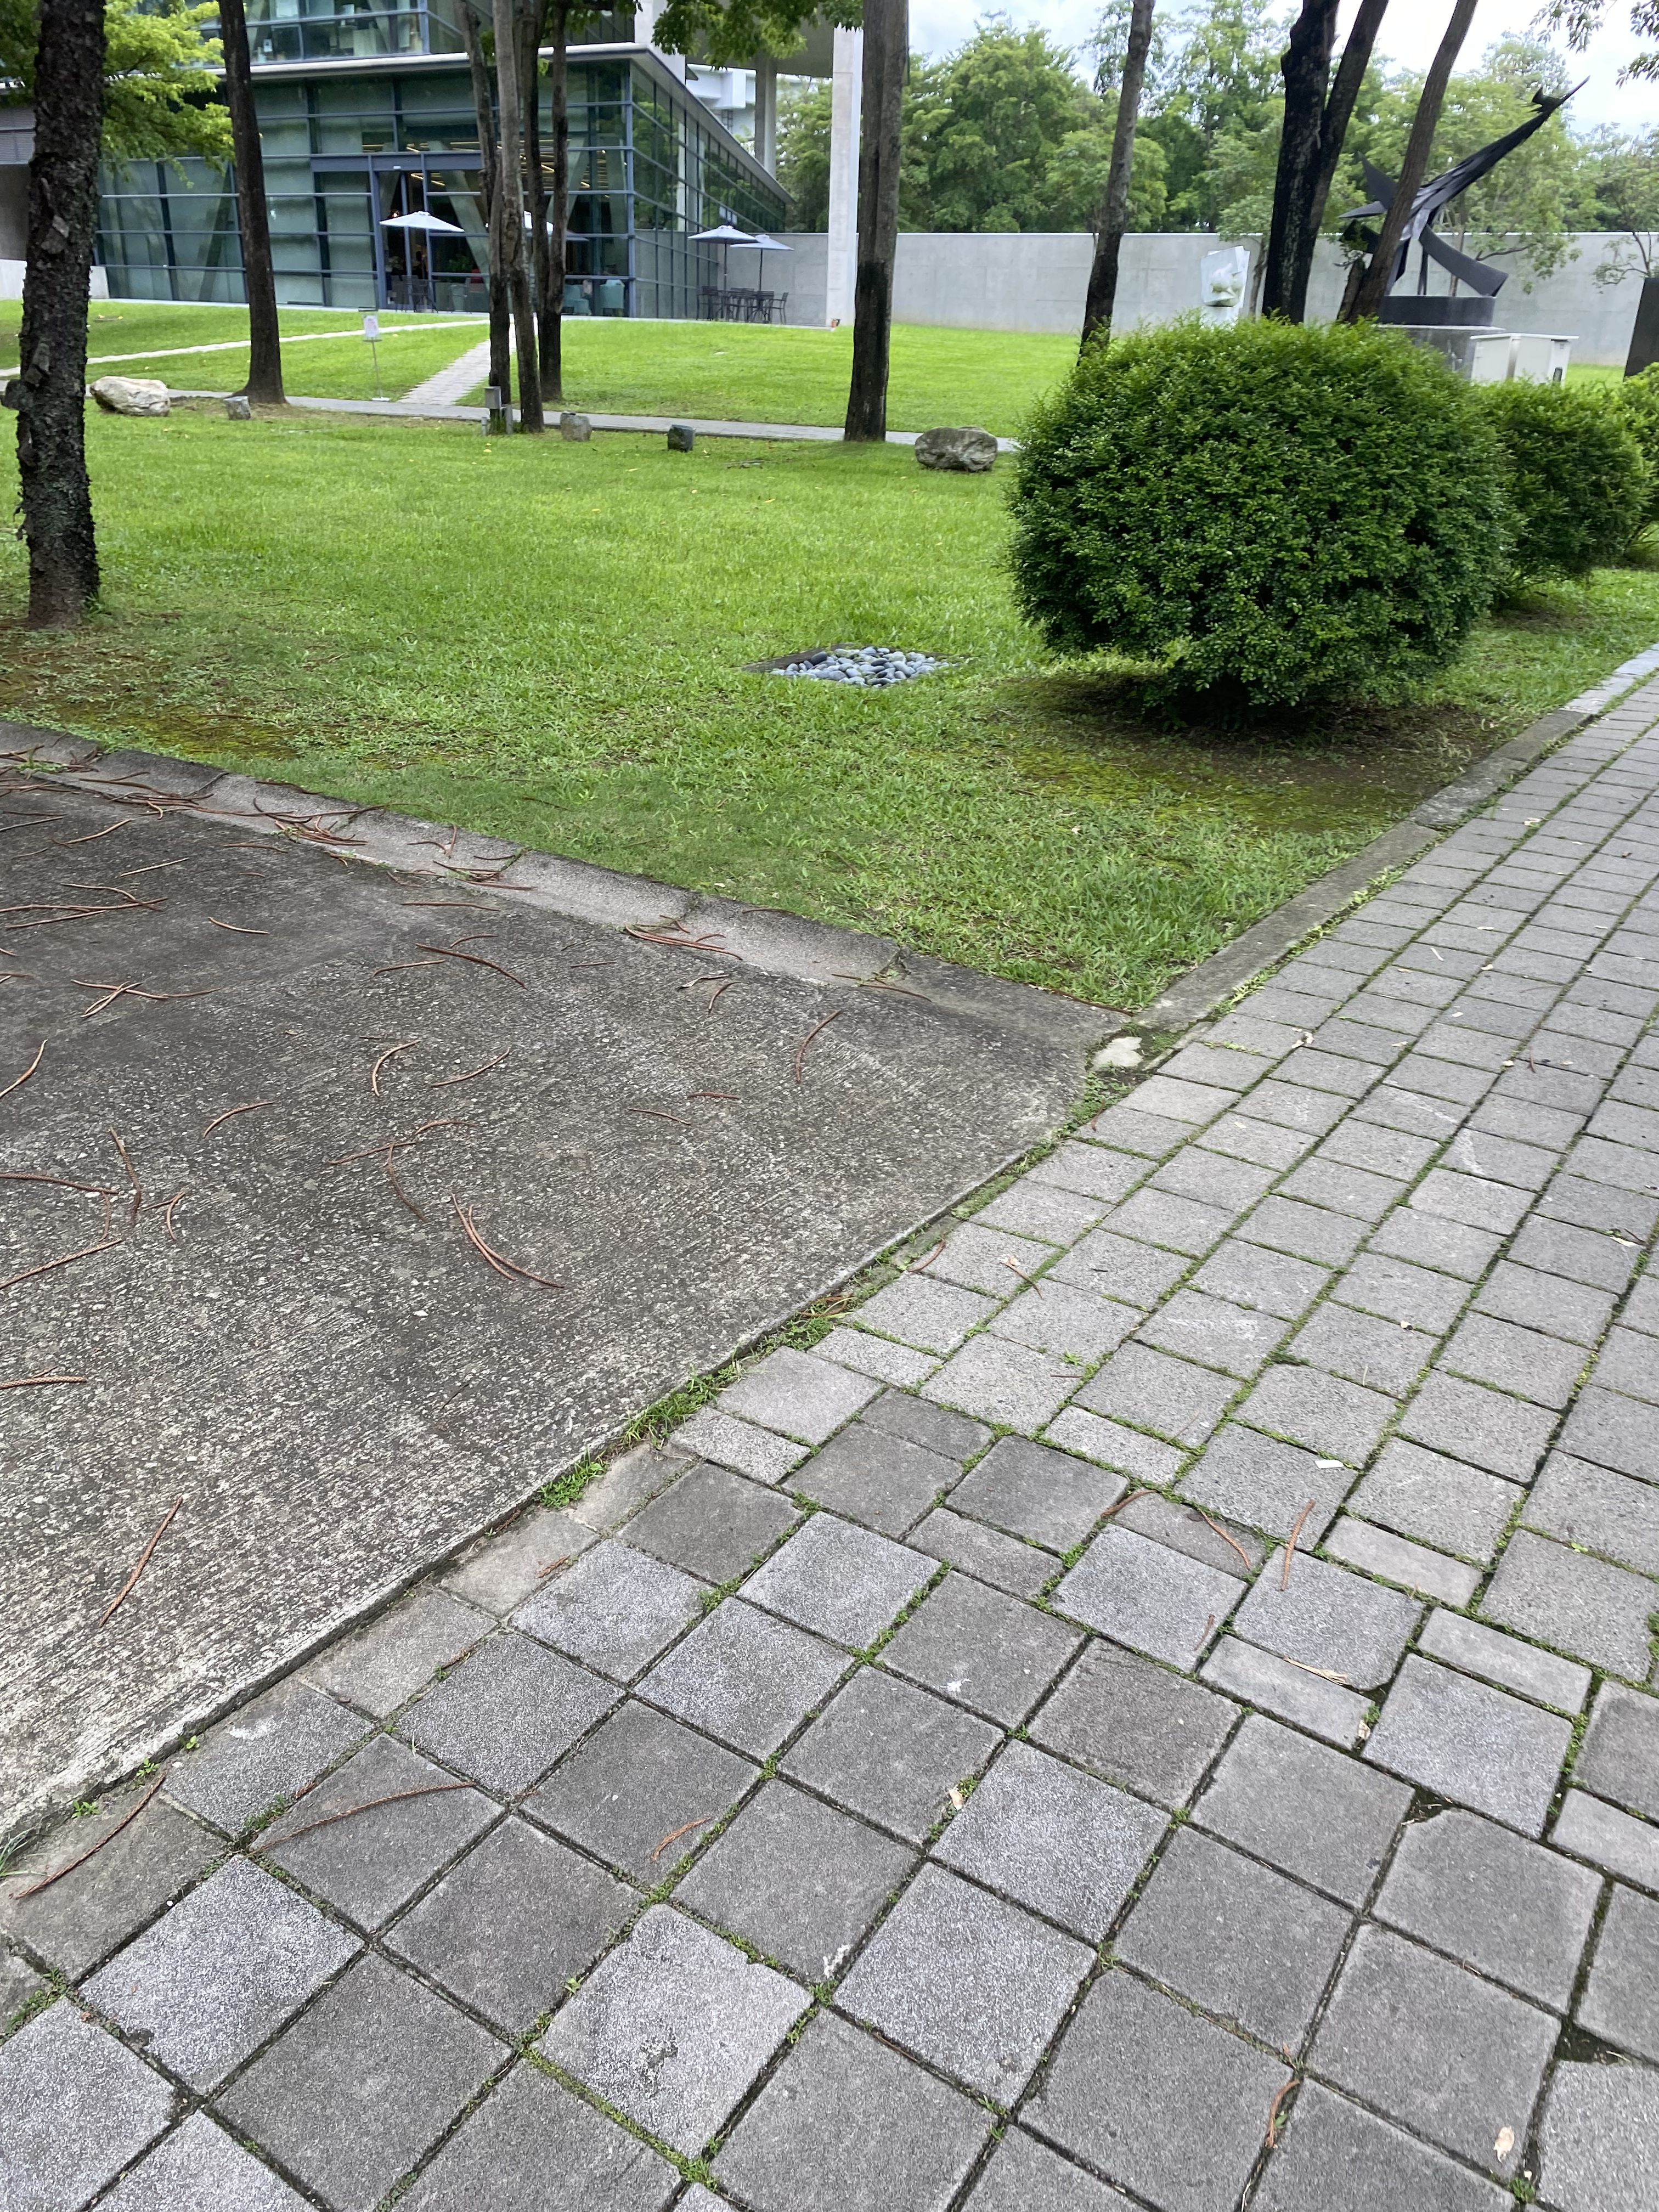sidewalk: (12, 712, 1659, 2210)
